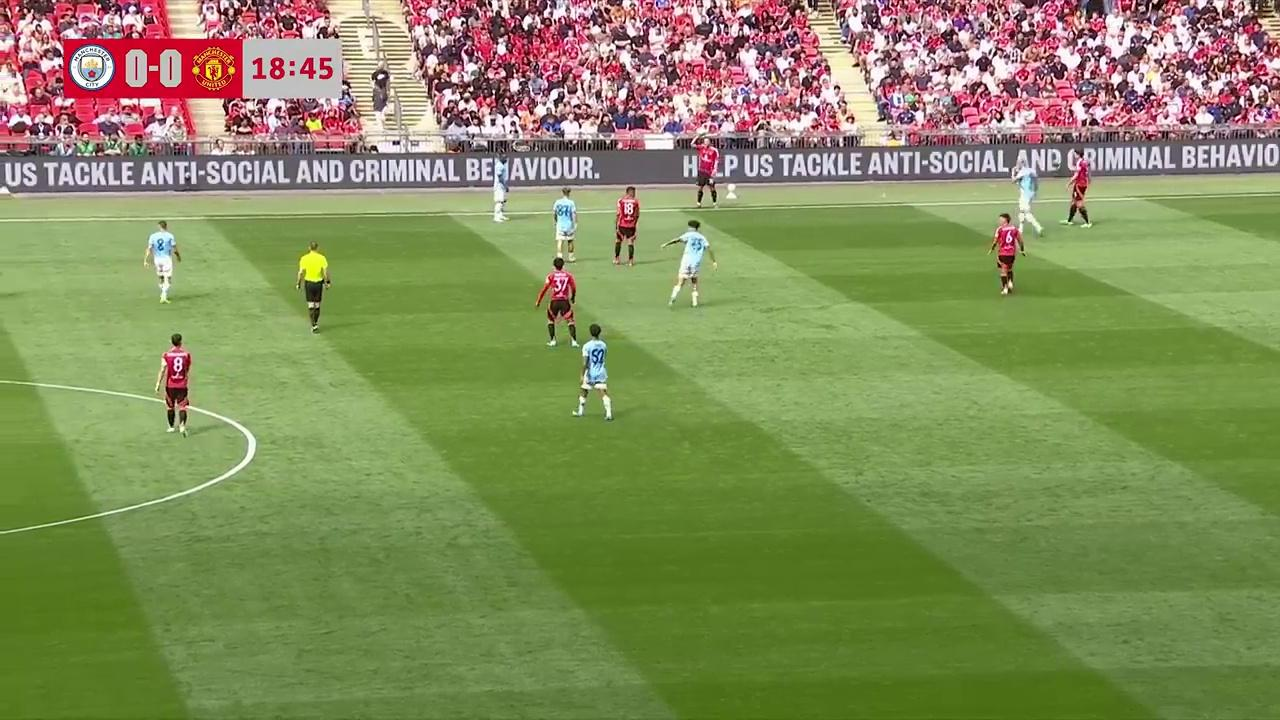player: (664, 220, 716, 308), (571, 324, 615, 421), (535, 259, 577, 347), (156, 332, 191, 435), (145, 220, 181, 303), (989, 213, 1022, 296), (1013, 164, 1042, 239), (613, 188, 640, 267), (552, 188, 578, 260), (1066, 158, 1092, 227), (693, 144, 719, 208), (491, 168, 510, 222)
referee: (296, 241, 330, 332)
